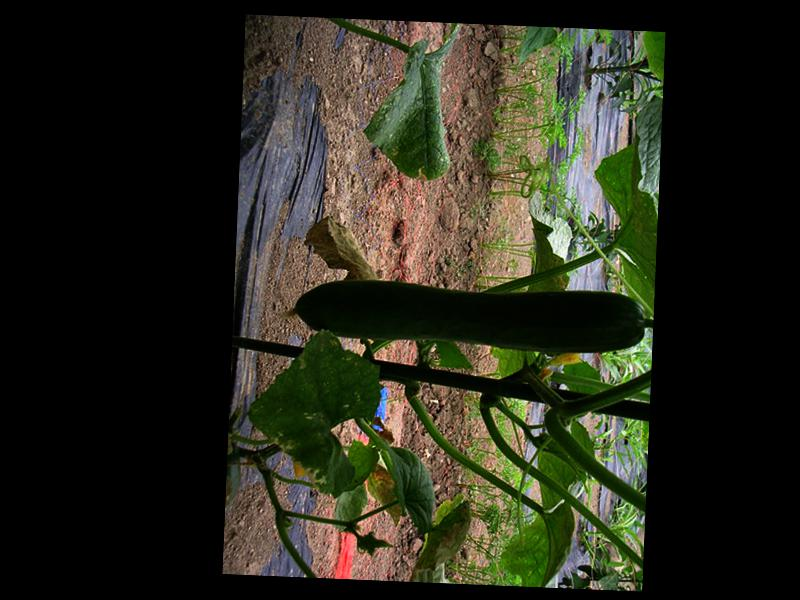Cucumber: (284, 277, 646, 356)
